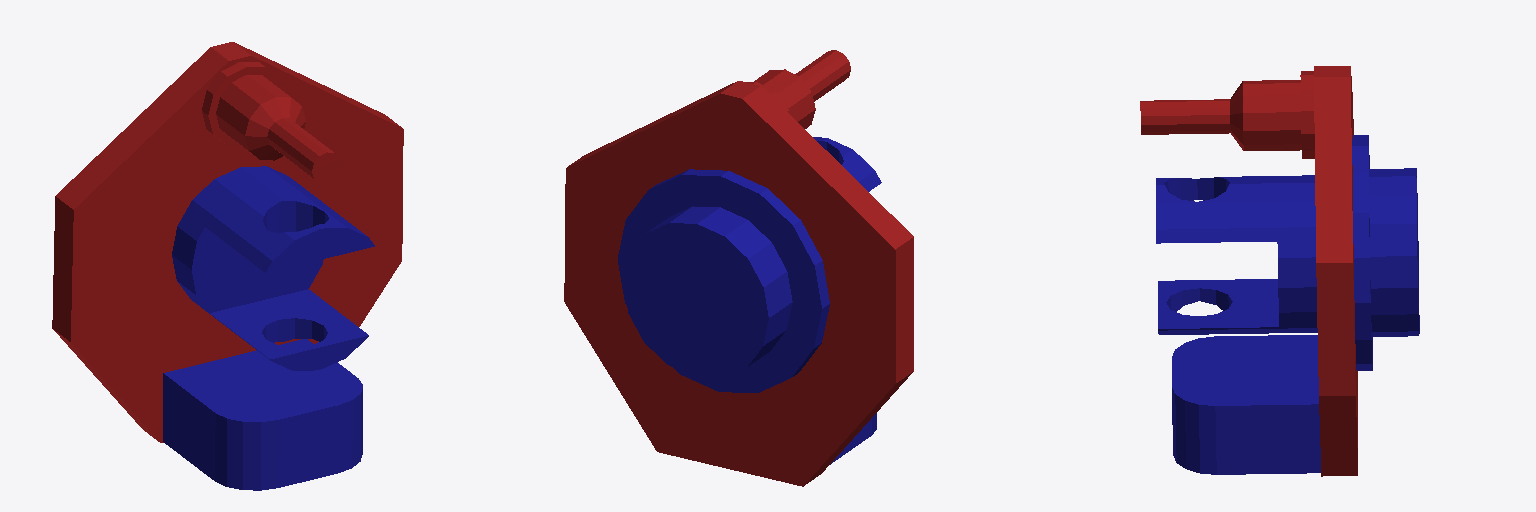
3 renders of one model, left to right at view 1: azimuth 30°, elevation 25°; view 2: azimuth 150°, elevation 25°; view 3: azimuth 270°, elevation 25°, orthographic.
Visible parts, largest first — view 1: B_HT.2_ShapeIndexedFaceS.034, B_HT.4_ShapeIndexedFaceS.031, B_HT.3_ShapeIndexedFaceS.029, B_HT.1_ShapeIndexedFaceS.035; view 2: B_HT.2_ShapeIndexedFaceS.034, B_HT.4_ShapeIndexedFaceS.031, B_HT.1_ShapeIndexedFaceS.035; view 3: B_HT.4_ShapeIndexedFaceS.031, B_HT.3_ShapeIndexedFaceS.029, B_HT.2_ShapeIndexedFaceS.034, B_HT.1_ShapeIndexedFaceS.035.
Part boxes in pixels (x1,y1,x2,y2): B_HT.2_ShapeIndexedFaceS.034: (52,42,403,442); B_HT.4_ShapeIndexedFaceS.031: (172,166,374,370); B_HT.3_ShapeIndexedFaceS.029: (163,339,362,490); B_HT.1_ShapeIndexedFaceS.035: (202,62,341,182); B_HT.2_ShapeIndexedFaceS.034: (564,81,913,486); B_HT.4_ShapeIndexedFaceS.031: (618,137,881,392); B_HT.1_ShapeIndexedFaceS.035: (747,50,850,128); B_HT.4_ShapeIndexedFaceS.031: (1156,135,1419,370); B_HT.3_ShapeIndexedFaceS.029: (1172,335,1320,474); B_HT.2_ShapeIndexedFaceS.034: (1314,66,1357,476); B_HT.1_ShapeIndexedFaceS.035: (1140,71,1314,158).
Size of the model in its own units: 2.82 by 3.02 by 2.06.